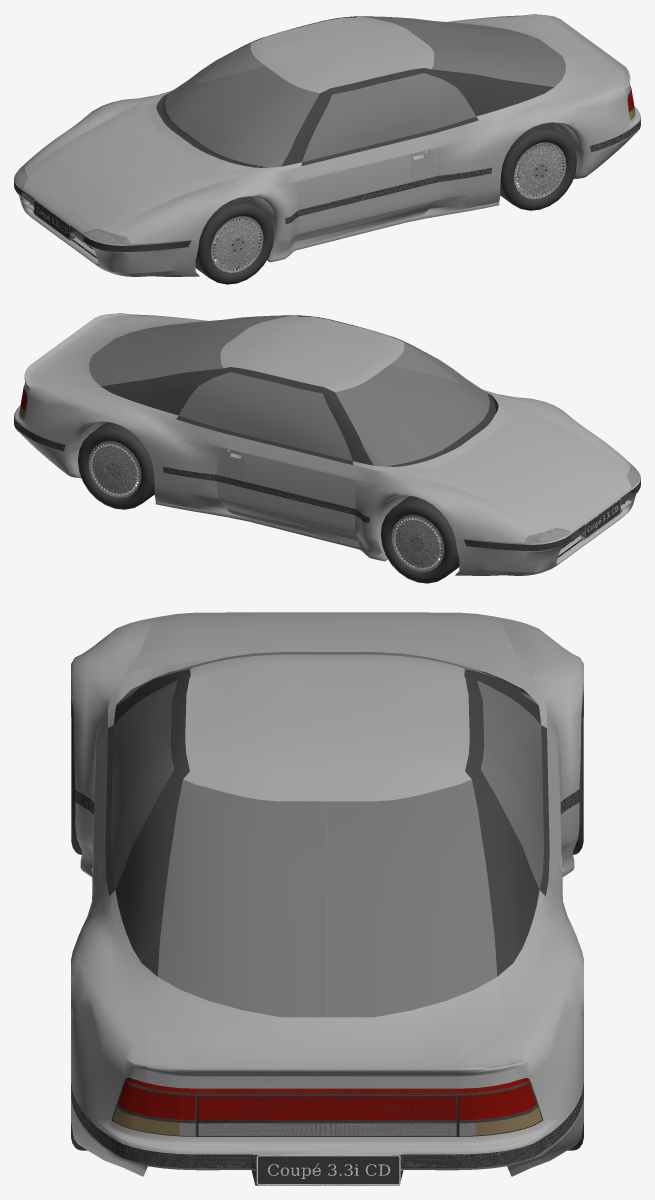
The model's file is Car_gray.dae.
The picture shows the model from 3 angles, top to bottom: view 1: azimuth 30°, elevation 25°; view 2: azimuth 150°, elevation 25°; view 3: azimuth 270°, elevation 25°; orthographic projection. The views are drawn at different scales.
Visible parts, largest first — view 1: side (×9), door (×5), hood (×2), windshield (×2), trunklid (×4), wheel (×4), front_bumper (×2), front_grill (×2), DC94878, glass; view 2: side (×9), door (×5), hood (×2), windshield (×2), trunklid (×4), wheel (×4), front_bumper (×2), front_grill (×2), DC94878, glass; view 3: side (×18), trunklid (×8), hood (×2), door (×4), DC94878.
Part boxes in pixels (box(x1,y1,x2,y2)): side (×9): box(24, 14, 640, 262); door (×5): box(296, 78, 438, 246); hood (×2): box(25, 101, 245, 232); windshield (×2): box(165, 43, 319, 167); trunklid (×4): box(362, 14, 630, 88); wheel (×4): box(195, 123, 576, 284); front_bumper (×2): box(62, 226, 199, 276); front_grill (×2): box(23, 175, 100, 233); DC94878: box(34, 200, 69, 239); glass: box(84, 229, 130, 244); side (×9): box(14, 313, 630, 561); door (×5): box(216, 377, 358, 545); hood (×2): box(409, 400, 629, 531); windshield (×2): box(335, 342, 489, 466); trunklid (×4): box(24, 313, 292, 387); wheel (×4): box(78, 422, 459, 583); front_bumper (×2): box(455, 525, 592, 575); front_grill (×2): box(554, 474, 631, 532); DC94878: box(585, 499, 620, 538); glass: box(524, 528, 570, 543); side (×18): box(71, 616, 583, 1176); trunklid (×8): box(147, 779, 507, 1136); hood (×2): box(123, 612, 531, 676); door (×4): box(92, 680, 562, 883); DC94878: box(258, 1156, 399, 1183).
Bounding box in the file's own units: 180 × 72.75 × 46.43.
